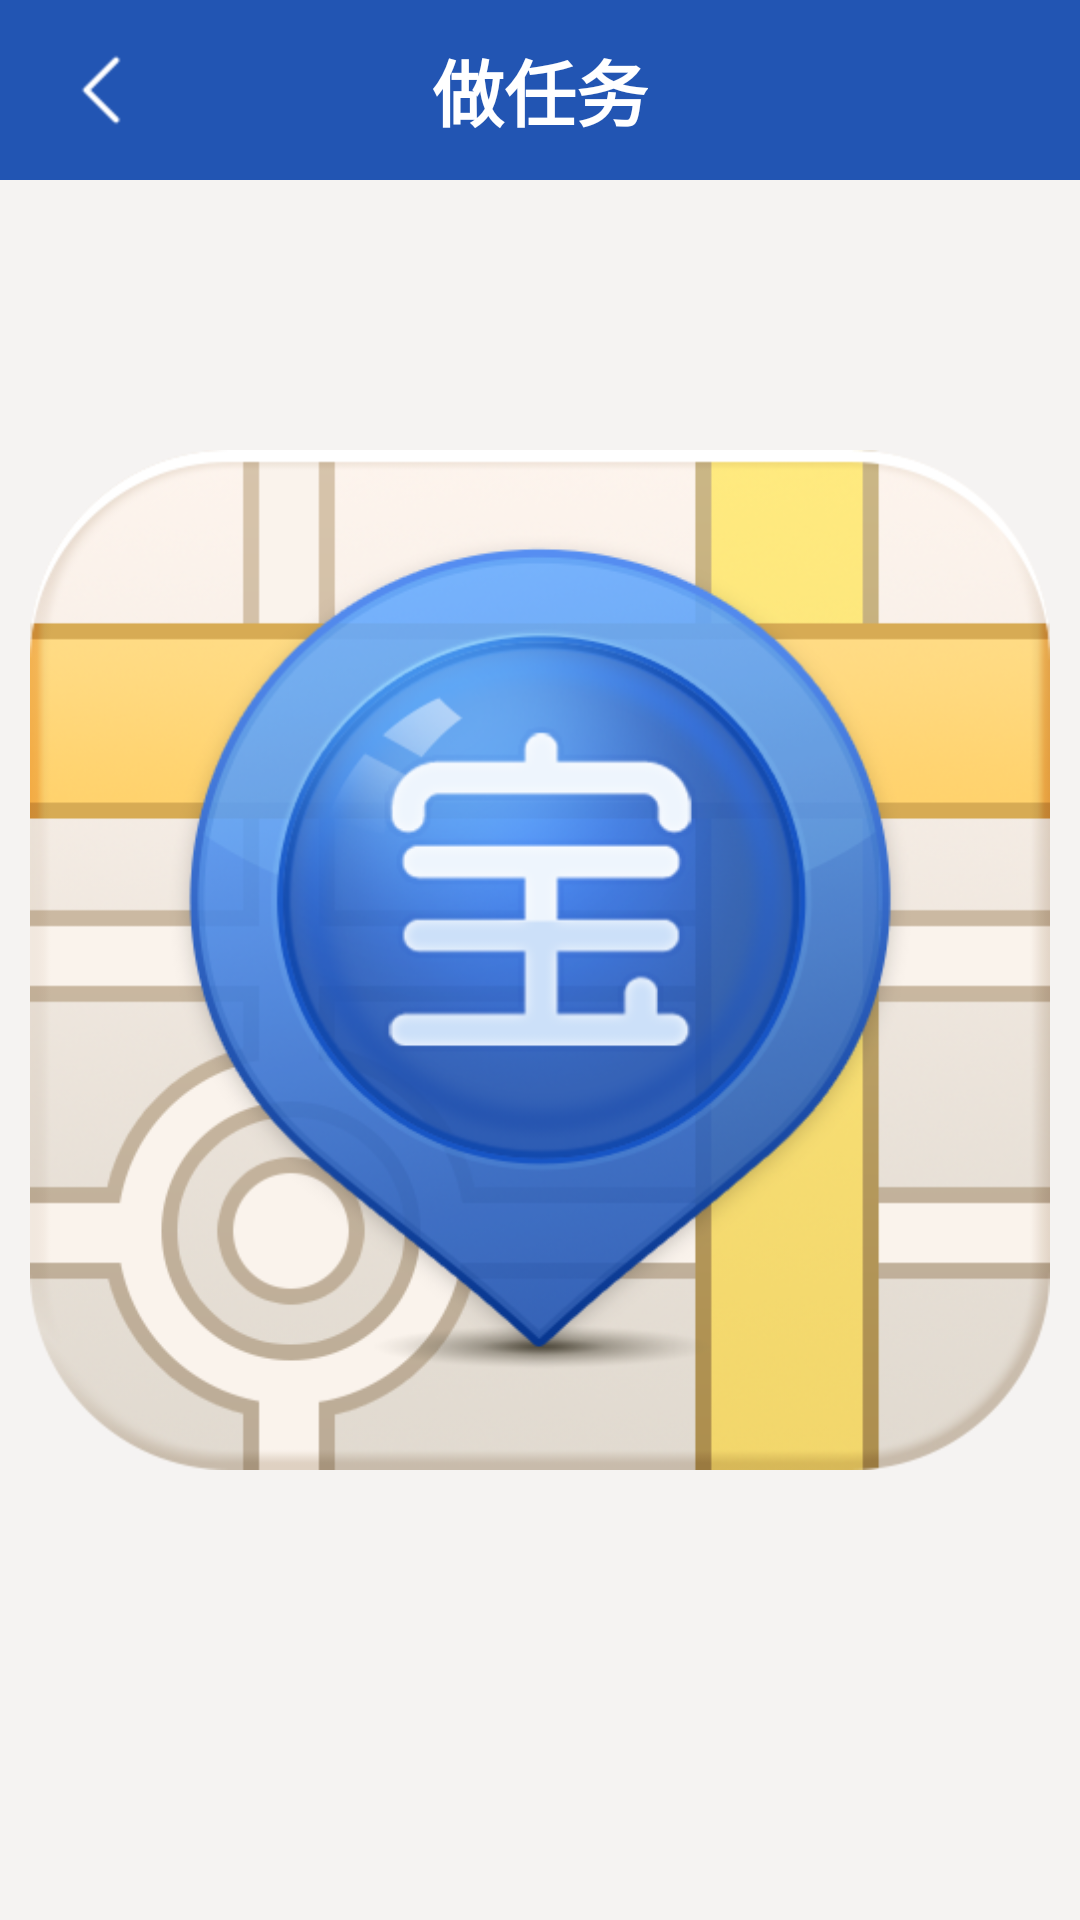

Where to tap for icons on this 1080x1920 app screen, as (x=x, y=y):
back: (x=101, y=90)
